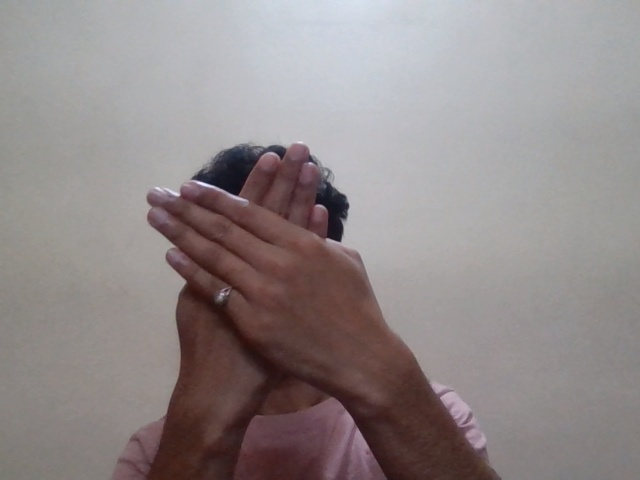what: (140, 143, 409, 386)
